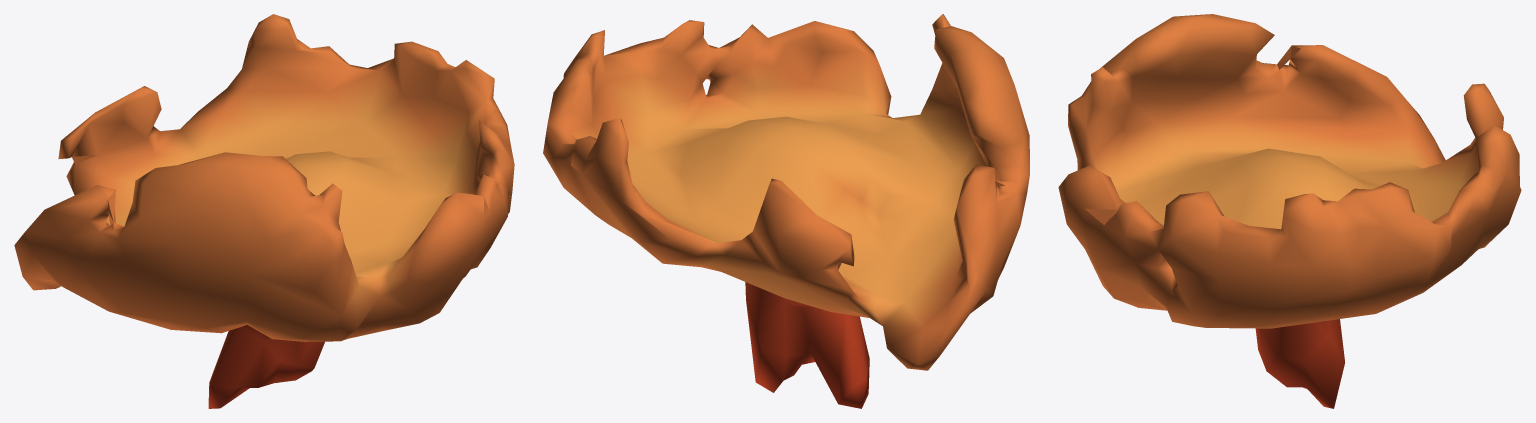
File: Mushroom5.fbx
3 views of the same model, side by side, from view 1: azimuth 30°, elevation 25°; view 2: azimuth 150°, elevation 25°; view 3: azimuth 270°, elevation 25° (orthographic). The views are drawn at different scales.
Parts seen in each view (by area): view 1: mushroom_10; view 2: mushroom_10; view 3: mushroom_10.
Boxes of the visible parts, x1,y1,x2,y2 form: mushroom_10: [14, 14, 514, 408]; mushroom_10: [543, 14, 1029, 408]; mushroom_10: [1058, 14, 1521, 408].
Size of the model in its own units: 93.82 by 65.37 by 82.6.
